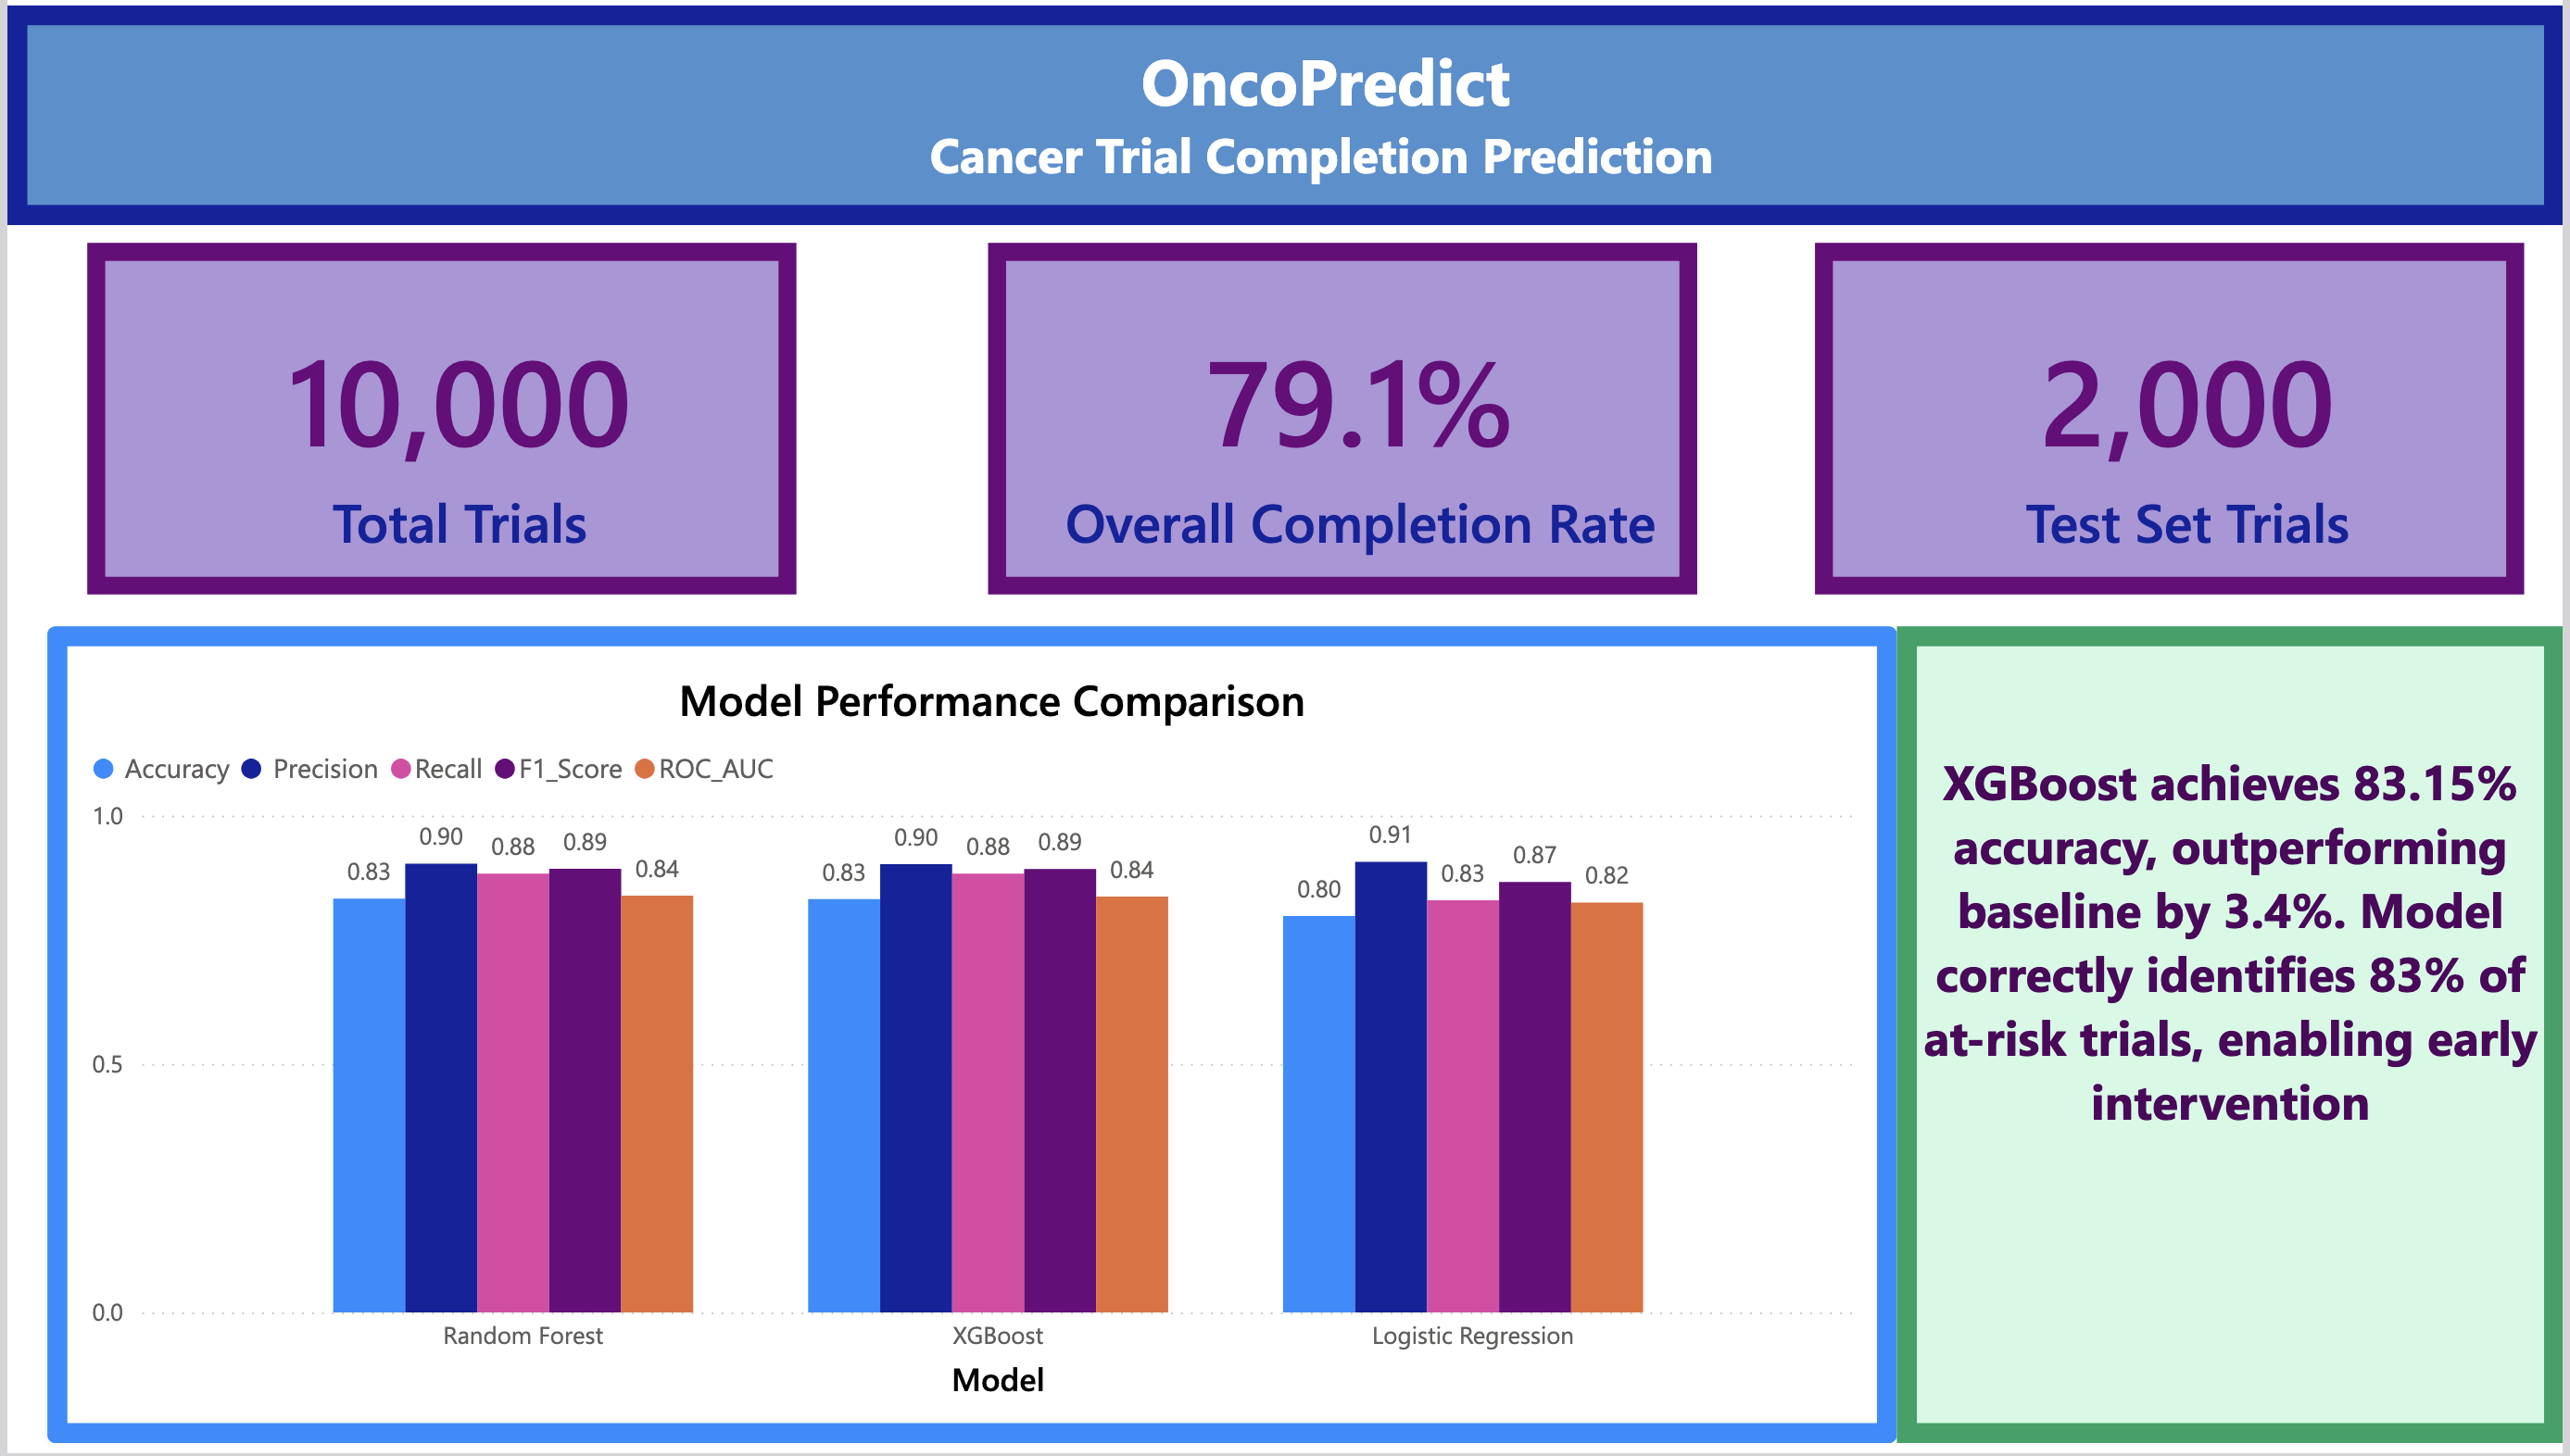

Layout of this report page (visuals, bound fields, positions):
{"tool":"powerbi","page":{"name":"Executive Summary","canvas":[1280,720],"ordinal":0},"visuals":[{"type":"clusteredColumnChart","title":"Model Performance Comparison","fields":{"Category":["model_performance_metrics.Model"],"Y":["Sum(model_performance_metrics.Accuracy)","Sum(model_performance_metrics.Precision)","Sum(model_performance_metrics.Recall)","Sum(model_performance_metrics.F1_Score)","Sum(model_performance_metrics.ROC_AUC)"]},"box":[19.8,311.2,926.1,408.9],"z":0},{"type":"textbox","box":[0,0,1280,109.8],"z":1000},{"type":"cardVisual","fields":{"Data":["Min(dataset_summary.Value)"]},"box":[471.4,119,395.1,177],"z":2000},{"type":"textbox","title":"🏆 Winner: XGBoost Accuracy: 83.15% F1-Score: 0.8924","box":[945.9,311.2,334.1,408.9],"z":3000},{"type":"cardVisual","fields":{"Data":["Min(dataset_summary.Value)"]},"box":[19.8,119,395.1,177],"z":4000},{"type":"cardVisual","fields":{"Data":["Min(dataset_summary.Value)"]},"box":[884.9,119,395.1,177],"z":5000}]}

Visuals, with their boxes in screenshot pixels (x1, y1, x2, y2), scaled from the page's 1280x720 canvas onto the 2570x1456 screenshot:
"Model Performance Comparison" clusteredColumnChart: bbox(40, 629, 1899, 1455)
textbox: bbox(0, 0, 2569, 222)
cardVisual - Min(dataset_summary.Value): bbox(947, 241, 1740, 598)
"🏆 Winner: XGBoost Accuracy: 83.15% F1-Score: 0.8924" textbox: bbox(1899, 629, 2569, 1455)
cardVisual - Min(dataset_summary.Value): bbox(40, 241, 833, 598)
cardVisual - Min(dataset_summary.Value): bbox(1777, 241, 2569, 598)
